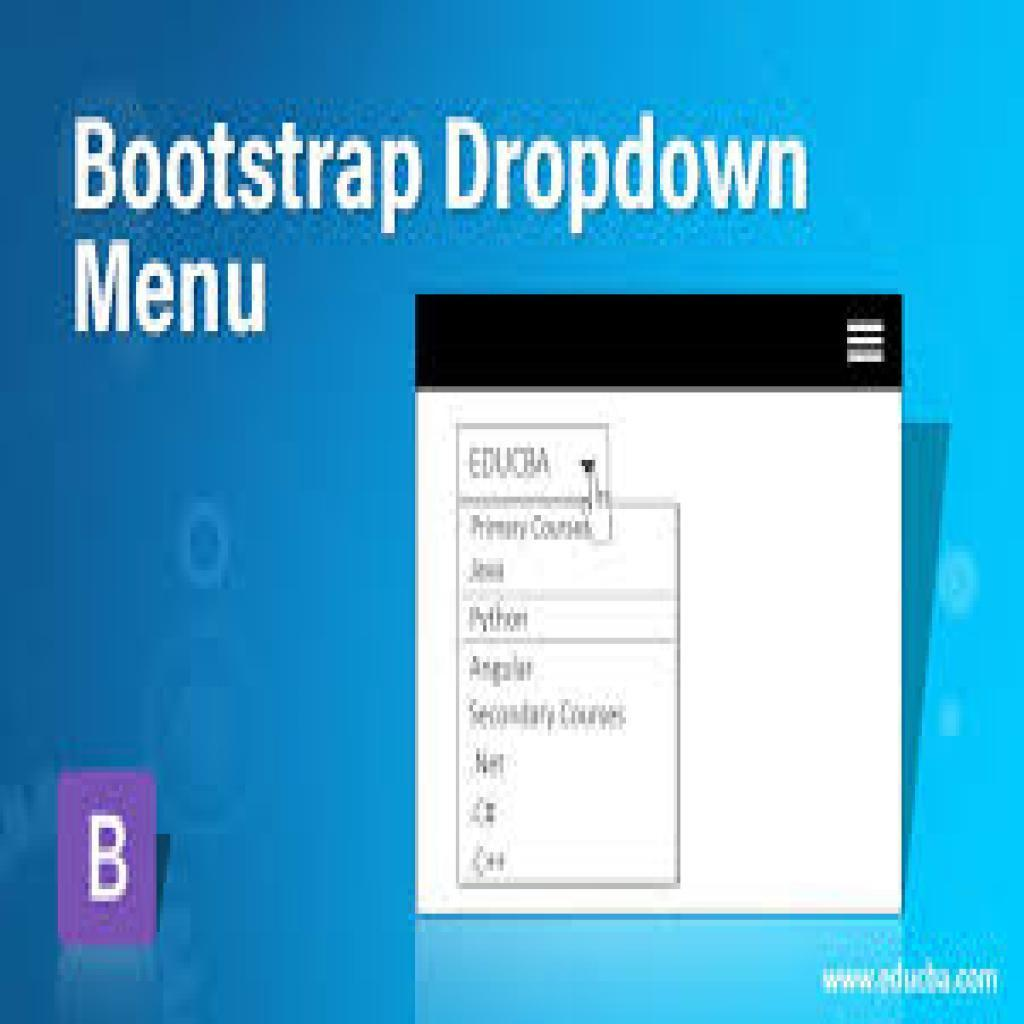dropdown: (458, 422, 612, 504)
icon: (847, 317, 890, 374)
